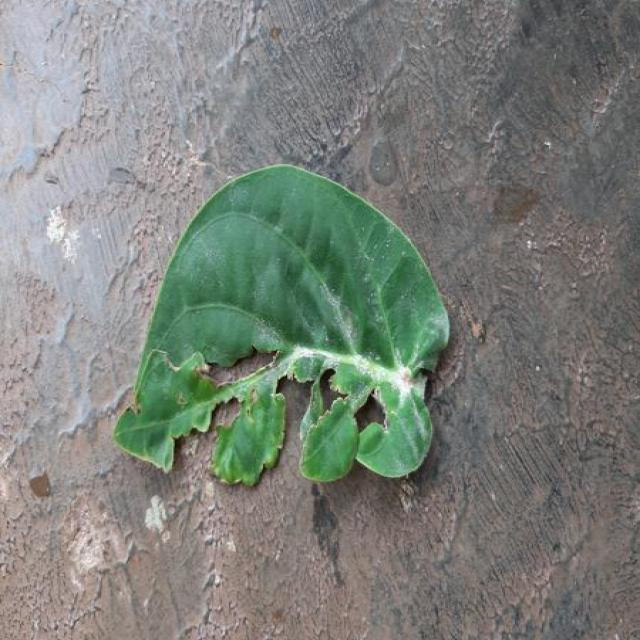ekka: (115, 165, 448, 484)
leaf spot: (208, 320, 432, 483)
